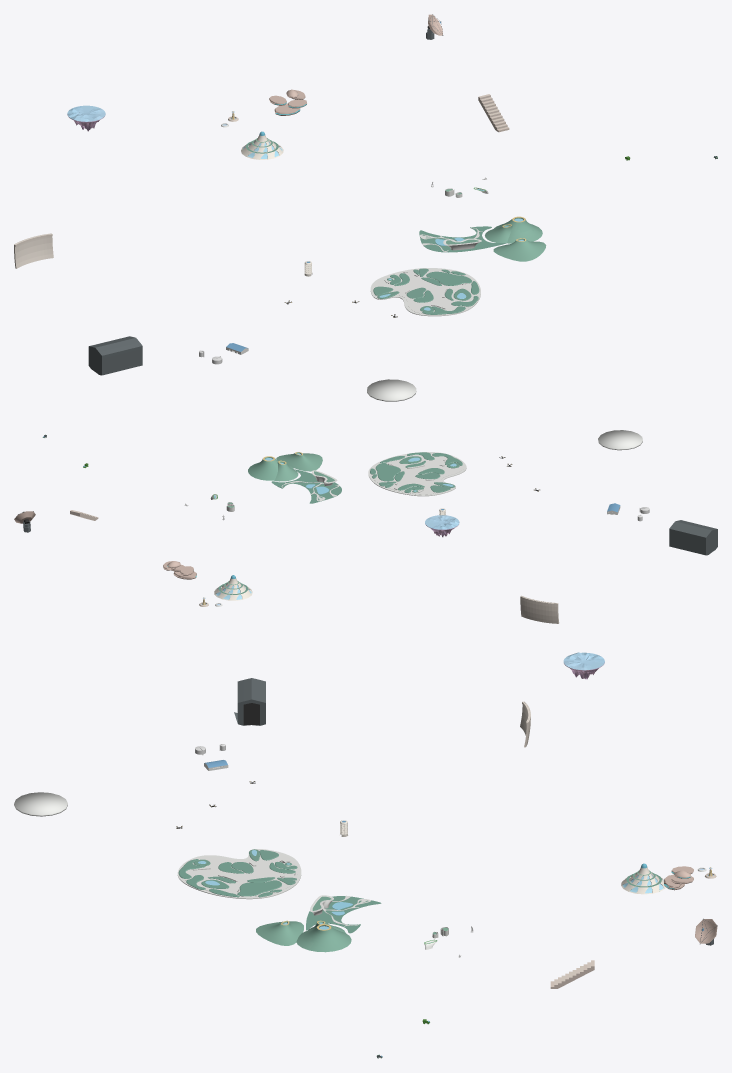
Rendered from map_C.glb.
The picture shows the model from 3 angles, top to bottom: view 1: azimuth 30°, elevation 25°; view 2: azimuth 150°, elevation 25°; view 3: azimuth 270°, elevation 25°; orthographic projection. The views are drawn at different scales.
Visible parts, largest first — view 1: Extrude, Extrude_1, Cylinder_2.001, DatEntrance, damm, Disc.001, Extrude_2_3, Cylinder_2_2, Cylinder_4, Disc; view 2: Extrude, Extrude_1, Cylinder_2.001, DatEntrance, damm, Disc.001, Extrude_2_3, Cylinder_2_2, Disc, Cylinder_4; view 3: Extrude, Extrude_1, Cylinder_2.001, DatEntrance, Disc.001, Extrude_2_3, Cylinder_2_2, Disc.
Boxes of the visible parts, x1,y1,x2,y2 form: Extrude: (370, 268, 480, 316); Extrude_1: (373, 268, 479, 314); Cylinder_2.001: (485, 216, 546, 261); DatEntrance: (88, 336, 142, 375); damm: (14, 233, 53, 268); Disc.001: (367, 379, 416, 401); Extrude_2_3: (419, 226, 506, 252); Cylinder_2_2: (241, 131, 283, 159); Cylinder_4: (269, 89, 306, 115); Disc: (67, 105, 105, 131); Extrude: (368, 452, 466, 496); Extrude_1: (370, 452, 462, 492); Cylinder_2.001: (248, 452, 322, 481); DatEntrance: (669, 520, 717, 555); damm: (520, 595, 559, 623); Disc.001: (598, 430, 642, 450); Extrude_2_3: (271, 469, 341, 503); Cylinder_2_2: (214, 575, 252, 600); Disc: (425, 515, 459, 537); Cylinder_4: (163, 561, 196, 579); Extrude: (177, 849, 301, 899); Extrude_1: (178, 849, 297, 897); Cylinder_2.001: (256, 920, 351, 952); DatEntrance: (234, 678, 265, 725); Disc.001: (14, 792, 67, 816); Extrude_2_3: (306, 896, 381, 933); Cylinder_2_2: (621, 863, 665, 894); Disc: (563, 652, 604, 679).
Bounding box in the file's own units: 233 × 36.99 × 193.
1 material, 1 textured.
